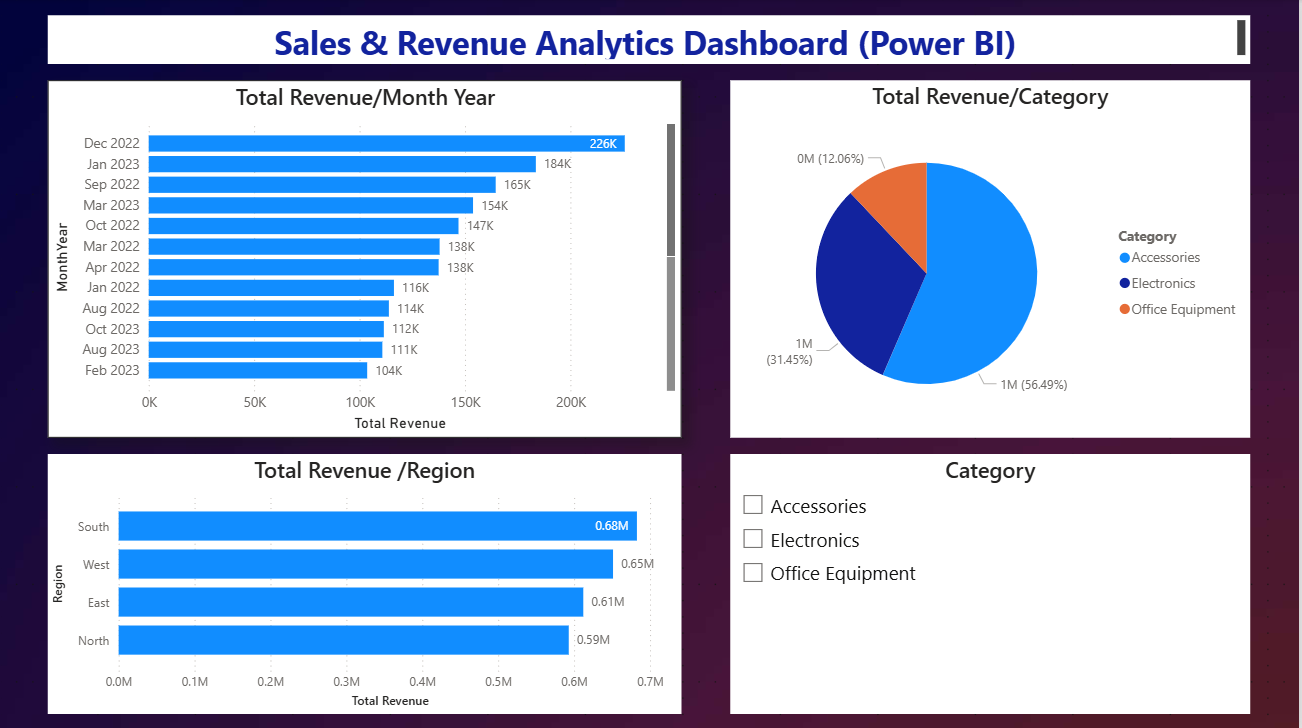

This screenshot's page, from the dashboard's own definition file:
{"tool":"powerbi","page":{"name":"Page 1","canvas":[1280,720],"ordinal":0},"visuals":[{"type":"barChart","title":"Total Revenue/Month Year","fields":{"Y":["Measures_Table.Total Revenue"],"Category":["Sales_Data.MonthYear"]},"box":[48,80,624,352],"z":0},{"type":"barChart","title":"Total Revenue /Region","fields":{"Category":["Sales_Data.Region"],"Y":["Measures_Table.Total Revenue","select"]},"box":[48,448,624,256],"z":1000},{"type":"pieChart","title":"Total Revenue/Category","fields":{"Y":["Measures_Table.Total Revenue"],"Category":["Sales_Data.Category"]},"box":[720,80,512,352],"z":2000},{"type":"slicer","title":"Category","fields":{"Values":["Sales_Data.Category"]},"box":[720,448,512,256],"z":3000},{"type":"textbox","box":[48,16,1184,48],"z":4000}]}

Visuals, with their boxes in screenshot pixels (x1, y1, x2, y2), scaled from the page's 1280x720 canvas onto the 1302x728 screenshot:
"Total Revenue/Month Year" barChart: region(49, 81, 684, 437)
"Total Revenue /Region" barChart: region(49, 453, 684, 712)
"Total Revenue/Category" pieChart: region(732, 81, 1253, 437)
"Category" slicer: region(732, 453, 1253, 712)
textbox: region(49, 16, 1253, 65)
